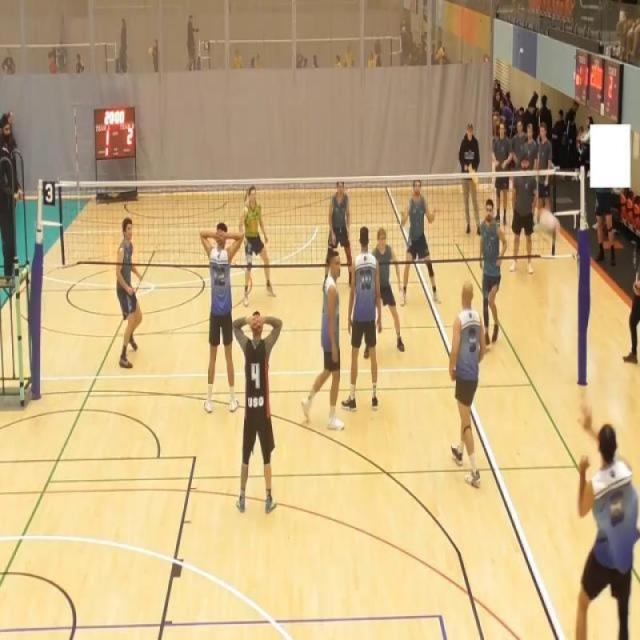volleyball: (539, 208, 561, 238)
